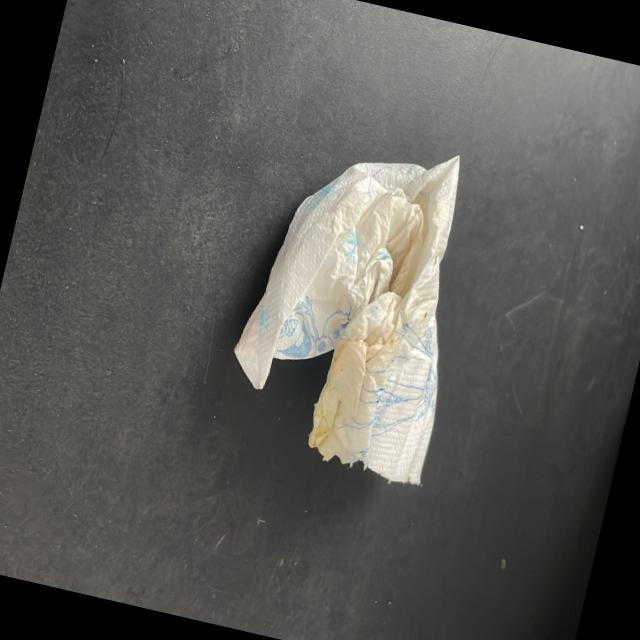organic waste: (212, 107, 499, 489)
